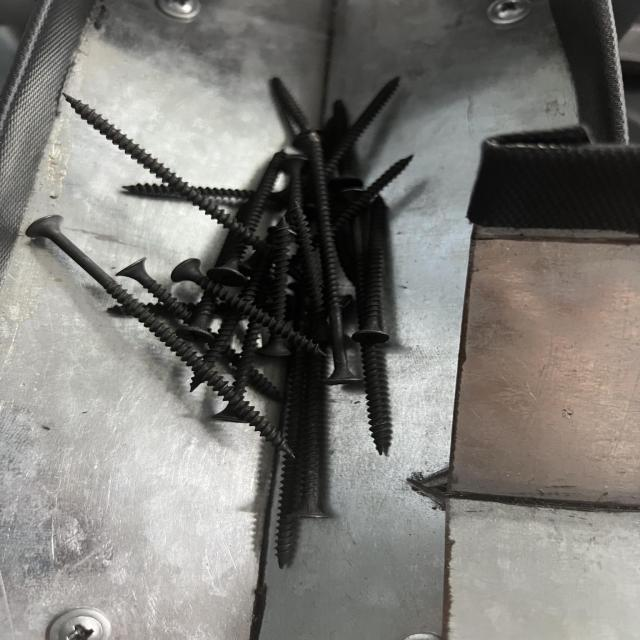screw: (27, 214, 300, 463), (63, 92, 274, 251), (350, 224, 400, 450)
